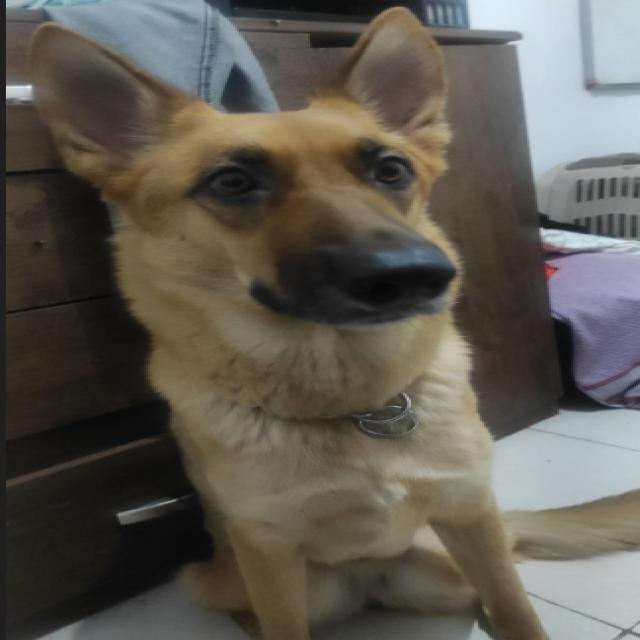cachorro: (18, 20, 640, 640)
